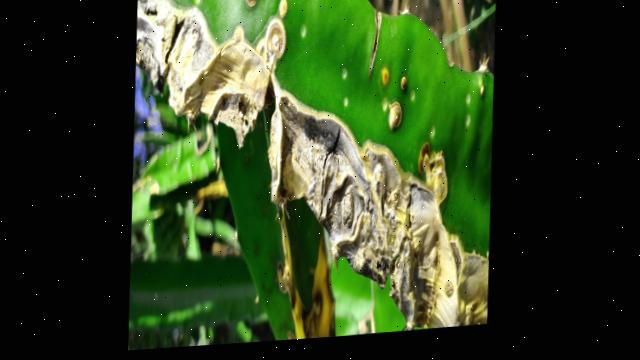stemcanker: (344, 32, 415, 136)
